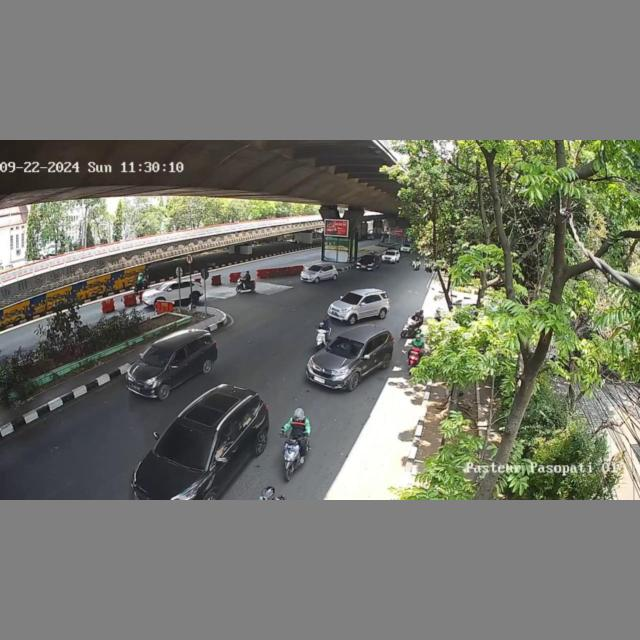windshield: (159, 423, 215, 469), (324, 337, 366, 361), (139, 344, 174, 367), (342, 290, 361, 306)
